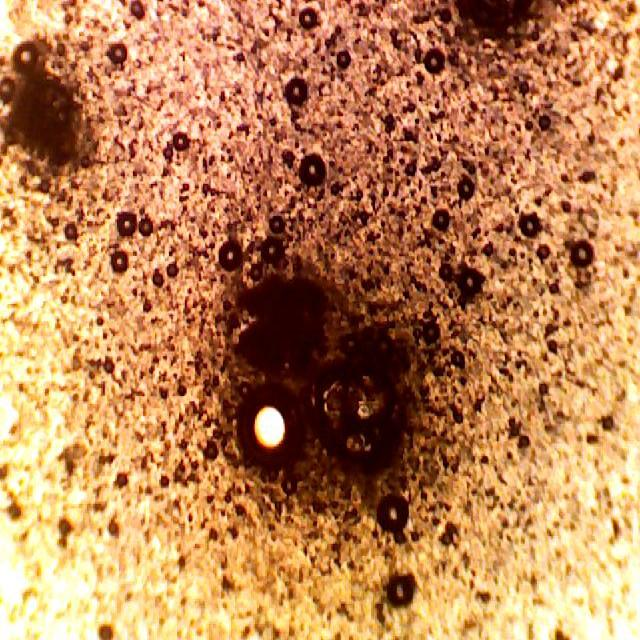bead: (232, 370, 304, 478)
fragment: (0, 36, 97, 174), (308, 356, 408, 474), (238, 263, 336, 365)
